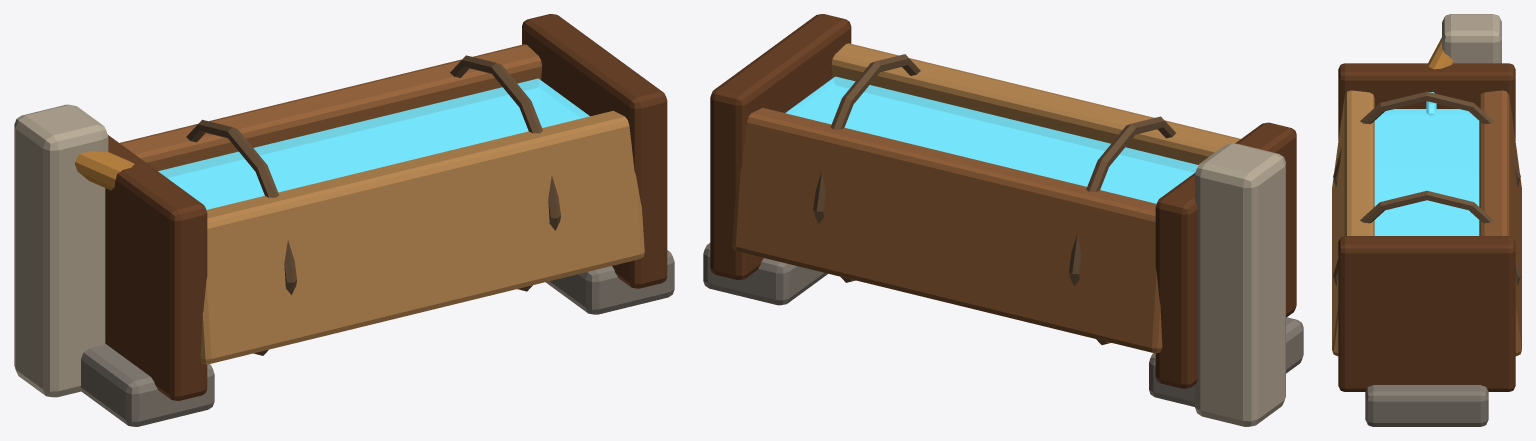
3 renders of one model, left to right at view 1: azimuth 30°, elevation 25°; view 2: azimuth 150°, elevation 25°; view 3: azimuth 270°, elevation 25°, orthographic. The views are drawn at different scales.
Visible parts, largest first — view 1: WK_TimberWaterTrough_LOD1_Balanced; view 2: WK_TimberWaterTrough_LOD1_Balanced; view 3: WK_TimberWaterTrough_LOD1_Balanced.
Boxes of the visible parts, bbox=[...] form: WK_TimberWaterTrough_LOD1_Balanced: bbox=[14, 14, 674, 426]; WK_TimberWaterTrough_LOD1_Balanced: bbox=[703, 14, 1303, 426]; WK_TimberWaterTrough_LOD1_Balanced: bbox=[1332, 14, 1521, 426].
Size of the model in its own units: 3.43 by 1.48 by 1.26.
